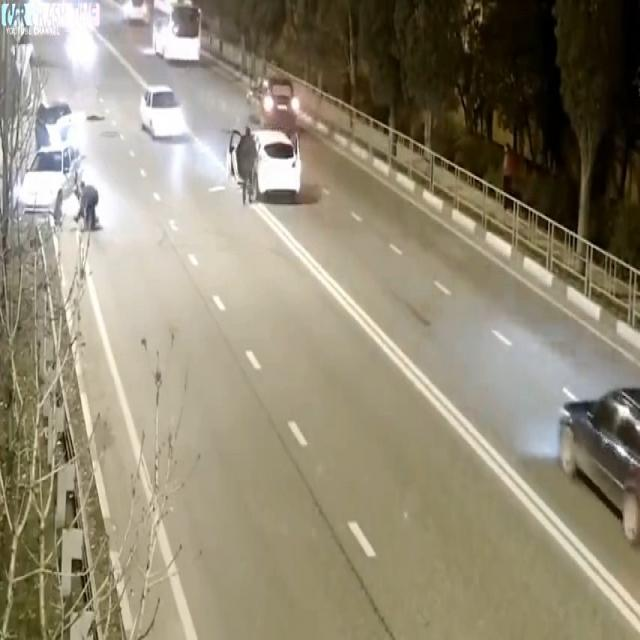Accident: (17, 107, 89, 225)
